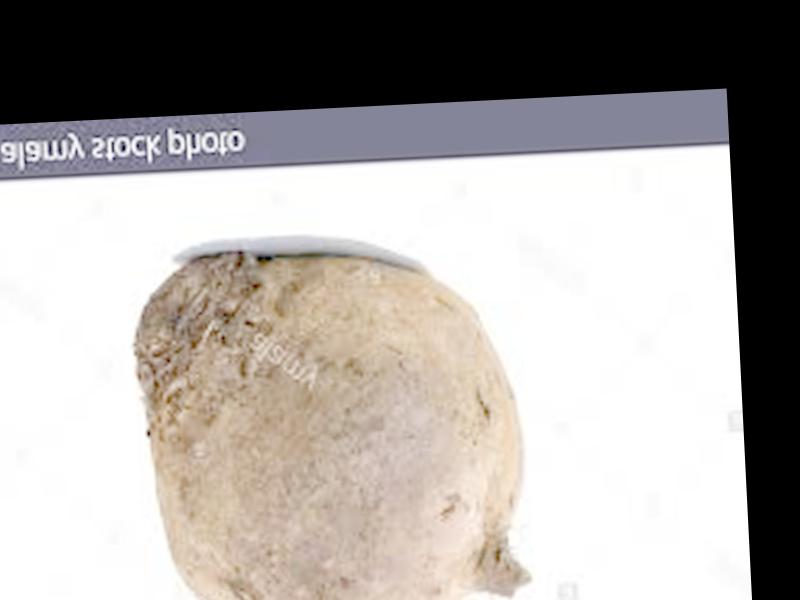Beet: (132, 239, 535, 600)
